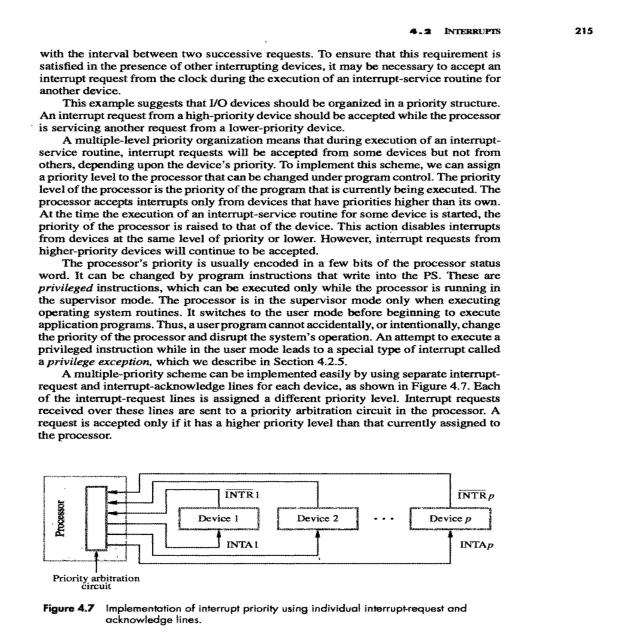diagram: (18, 460, 549, 640)
